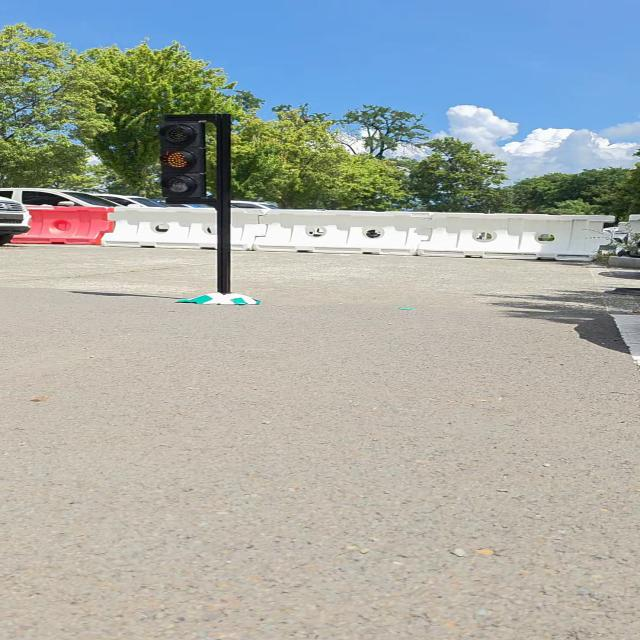yellow: (158, 121, 208, 199)
